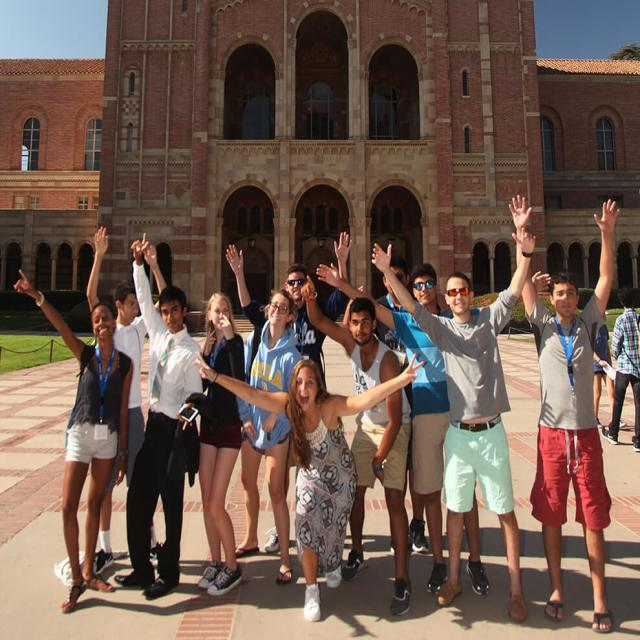body: (313, 259, 553, 598), (369, 224, 539, 629), (187, 346, 428, 626), (505, 187, 624, 635), (11, 264, 135, 616), (296, 269, 415, 616), (225, 230, 353, 552), (110, 227, 217, 600), (86, 223, 168, 570), (233, 284, 304, 586), (368, 252, 432, 556), (190, 286, 248, 596), (600, 282, 640, 455), (592, 322, 628, 429)
